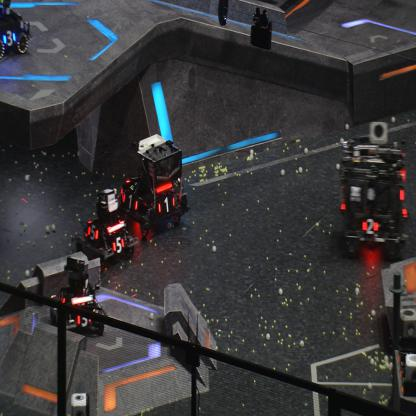car: (338, 134, 409, 254), (115, 134, 190, 236), (72, 186, 140, 270), (48, 254, 106, 336), (0, 0, 33, 60)
